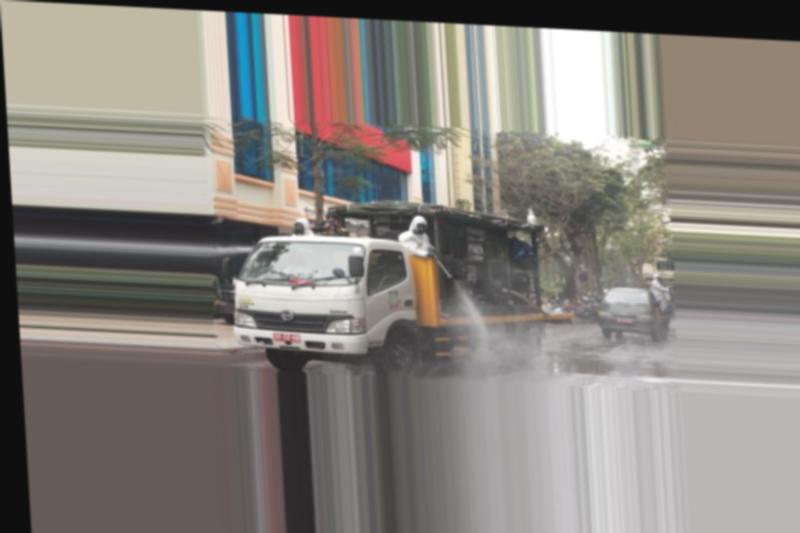License_Plate: (266, 329, 304, 347), (614, 317, 631, 327)
